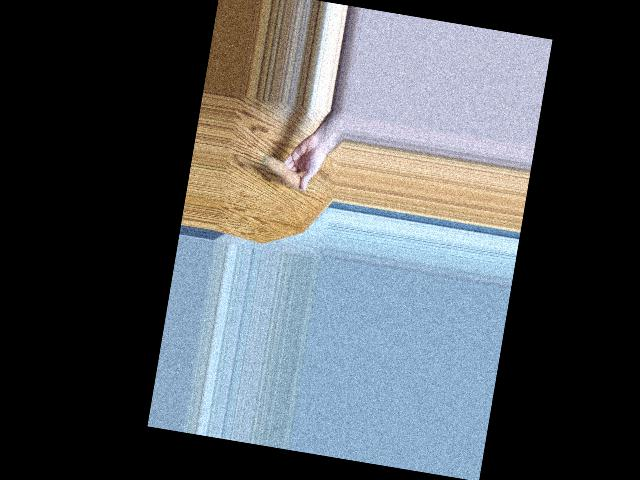sweet_potato: (256, 150, 313, 193)
